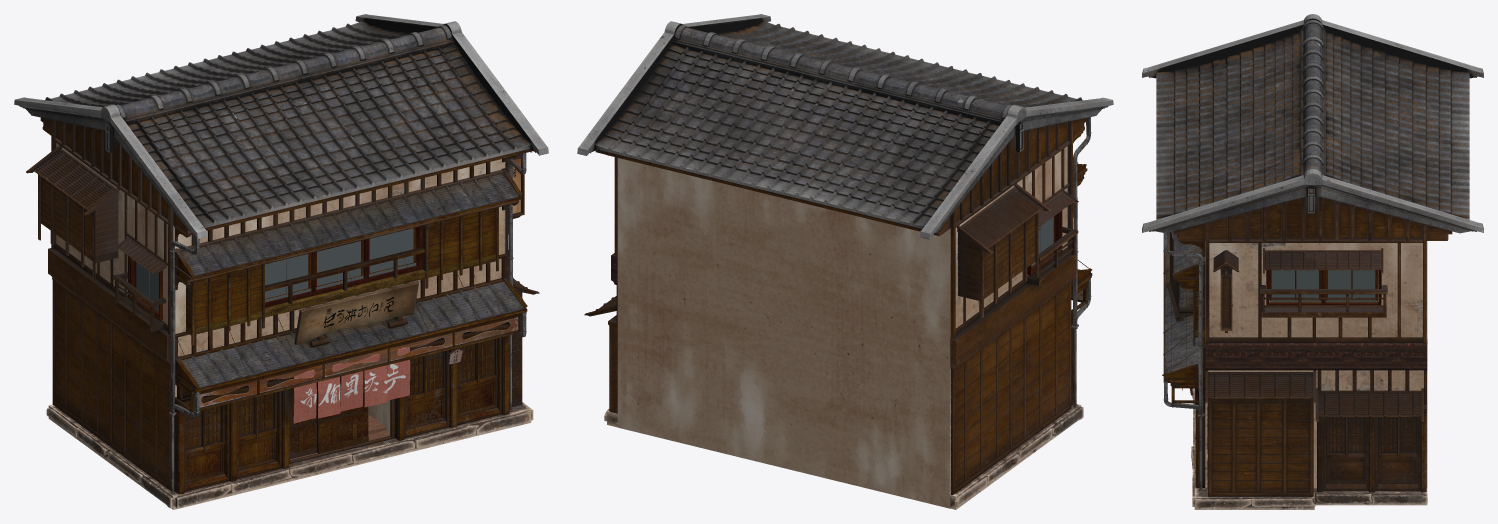
File: Japanese bar.fbx
3 views of the same model, side by side, from view 1: azimuth 30°, elevation 25°; view 2: azimuth 150°, elevation 25°; view 3: azimuth 270°, elevation 25° (orthographic). The views are drawn at different scales.
Visible parts, largest first — view 1: XI_JT_Bar.Shape; view 2: XI_JT_Bar.Shape; view 3: XI_JT_Bar.Shape.
Boxes of the visible parts, box(x1,y1,x2,y2) form: XI_JT_Bar.Shape: box(14, 14, 548, 509); XI_JT_Bar.Shape: box(577, 14, 1113, 509); XI_JT_Bar.Shape: box(1142, 14, 1483, 509).
Bounding box in the file's own units: 813 × 691 × 645.
Materials: 5 (5 with a texture image).
